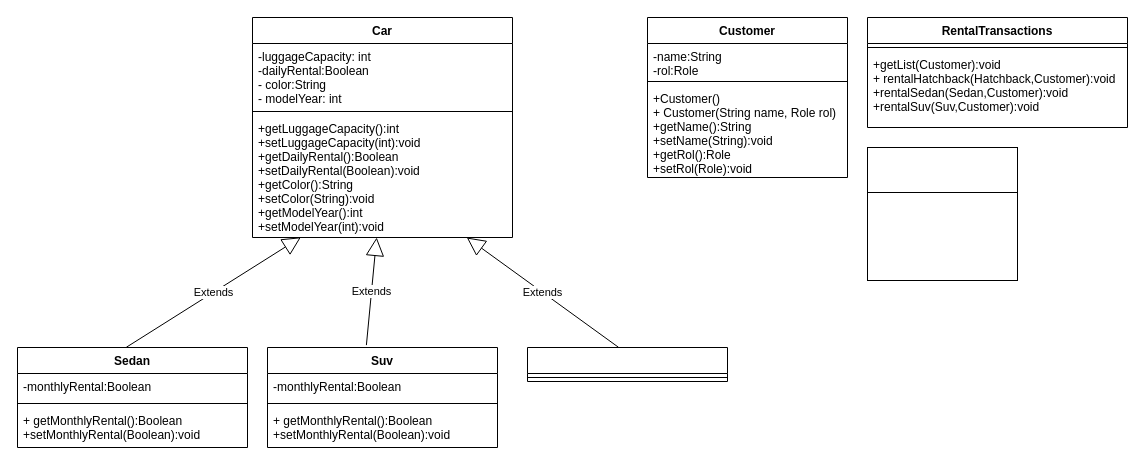
Image size: 1145x468. Some labels were removed from this diagram. The centre of each missing label's shape, as x and y in pixels:
<<enumeration>> Role COMPANY CITIZEN: pixel 942 213
Hatchback: pixel 627 364
